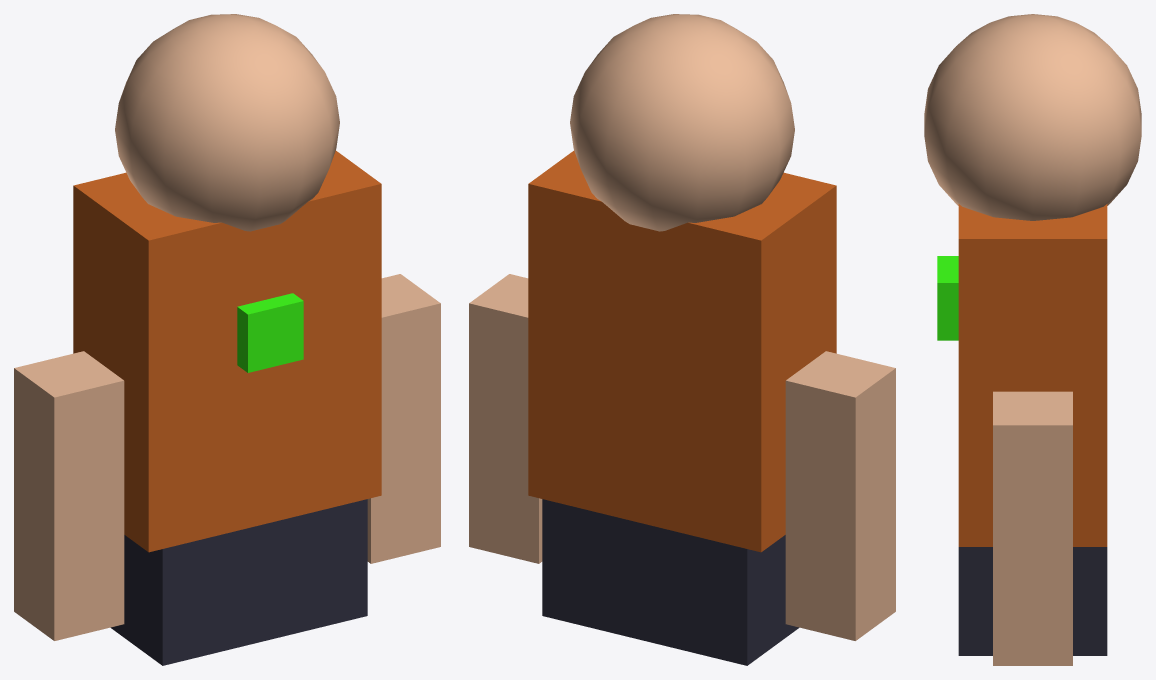
Rendered from tc_mec.glb.
3 renders of one model, left to right at view 1: azimuth 30°, elevation 25°; view 2: azimuth 150°, elevation 25°; view 3: azimuth 270°, elevation 25°, orthographic.
Visible parts, largest first — view 1: TC Mechanic; view 2: TC Mechanic; view 3: TC Mechanic.
Part boxes in pixels (x1,y1,x2,y2): TC Mechanic: (14,14,440,665); TC Mechanic: (469,14,895,665); TC Mechanic: (924,14,1141,665).
Bounding box in the file's own units: 0.83 × 1.21 × 0.4095.
